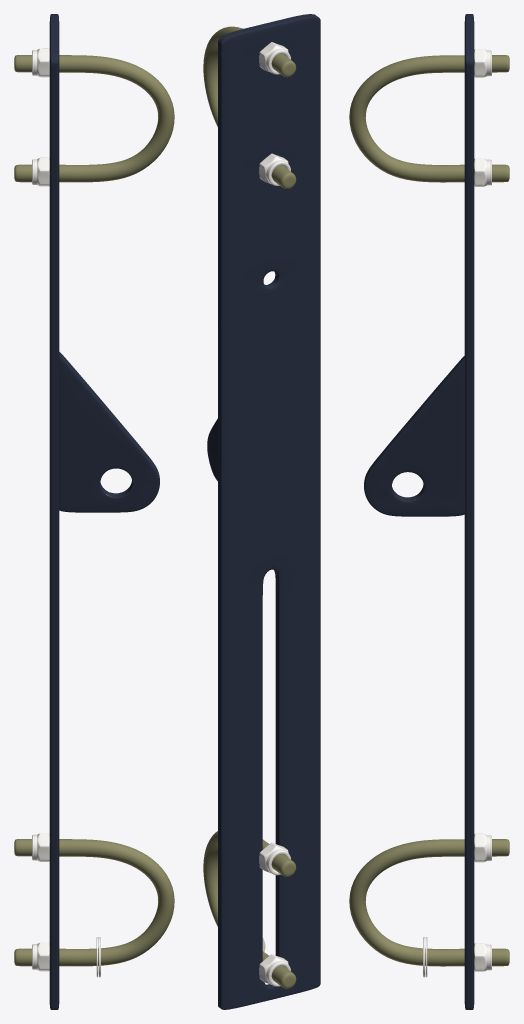
3 renders of one model, left to right at view 1: azimuth 90°, elevation 25°; view 2: azimuth 210°, elevation 25°; view 3: azimuth 270°, elevation 25°, orthographic. The views are drawn at different scales.
Parts seen in each view (by area): view 1: base_plate, suspension_block2, center_angle, nut4; view 2: base_plate, suspension_block2, nut4, center_angle; view 3: base_plate, suspension_block2, center_angle, nut4.
Boxes of the visible parts, left/top/right/bottom form: base_plate: left=49, top=14, right=59, bottom=1009; suspension_block2: left=14, top=55, right=174, bottom=966; center_angle: left=59, top=352, right=159, bottom=512; nut4: left=32, top=48, right=49, bottom=971; base_plate: left=218, top=14, right=320, bottom=1009; suspension_block2: left=203, top=26, right=296, bottom=988; nut4: left=259, top=42, right=290, bottom=986; center_angle: left=207, top=418, right=217, bottom=480; base_plate: left=464, top=14, right=474, bottom=1009; suspension_block2: left=349, top=55, right=509, bottom=966; center_angle: left=364, top=356, right=464, bottom=516; nut4: left=474, top=49, right=491, bottom=971.
Bounding box in the file's own units: 1.94 × 18.16 × 2.76.
Materials: 1 (1 with a texture image).
